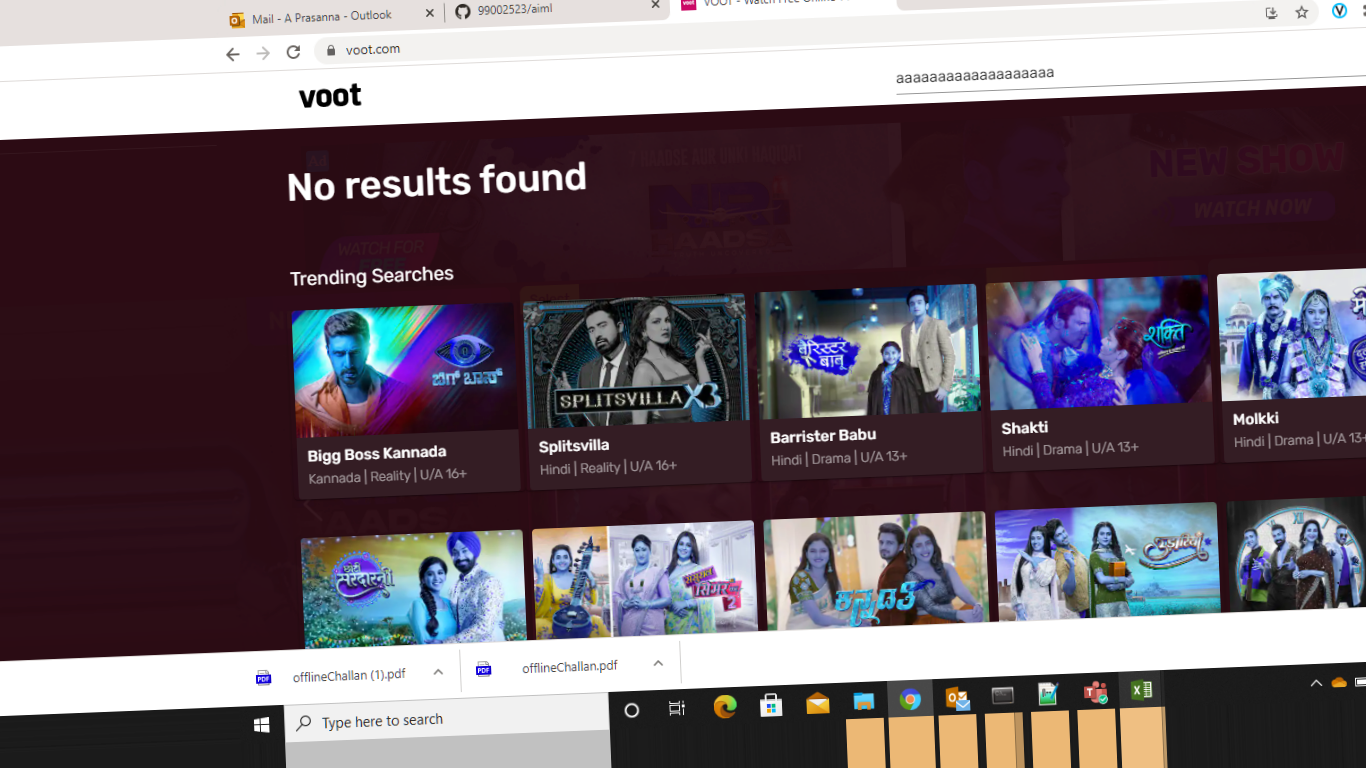noresultsfound: (285, 140, 633, 216)
searchtextbox: (864, 44, 1359, 104)
